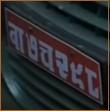2: (54, 47, 69, 80)
7: (25, 30, 39, 64)
8: (85, 66, 101, 99)
9: (69, 61, 86, 91)
ba: (6, 21, 25, 55)
cha: (38, 36, 54, 73)
